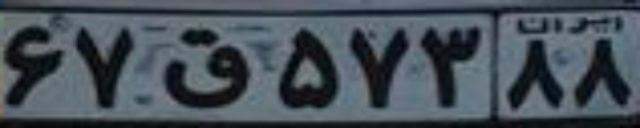3: (420, 26, 484, 108)
5: (276, 29, 340, 110)
6: (2, 25, 64, 105)
7: (348, 26, 412, 109), (74, 24, 135, 108)
8: (504, 38, 567, 109), (574, 37, 631, 109)
ghaf: (158, 26, 250, 109)
